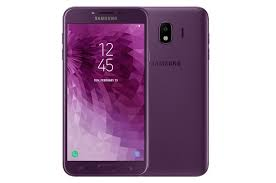samsung: (58, 3, 149, 178), (143, 5, 210, 178)
